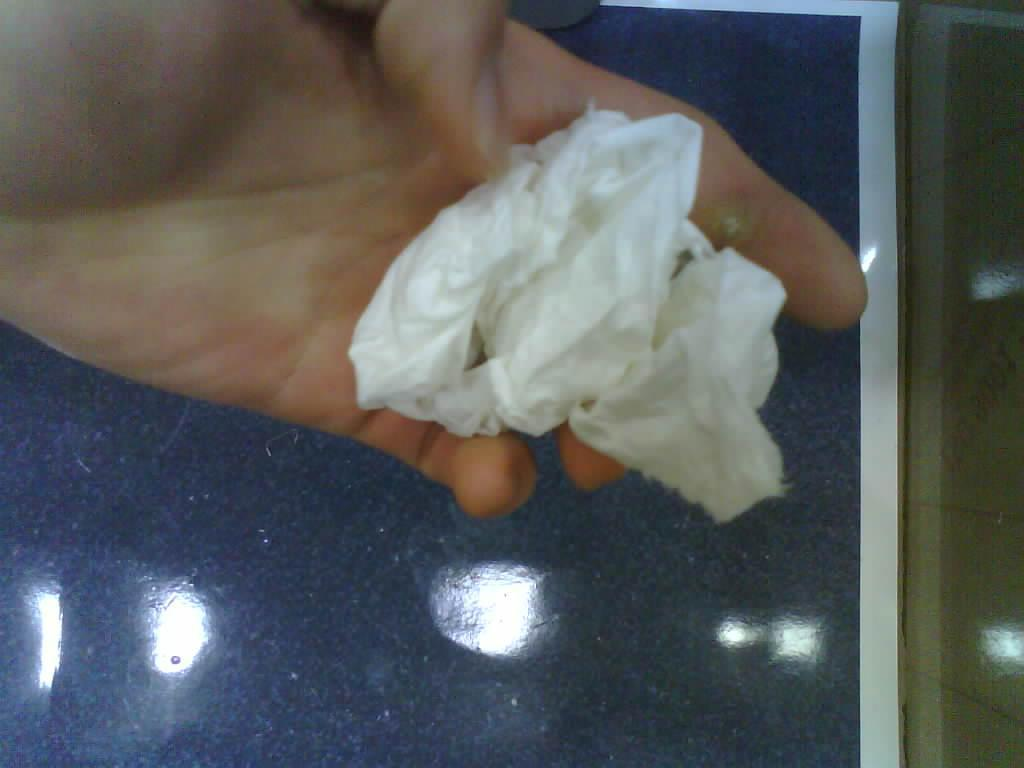paper: (350, 110, 786, 520)
